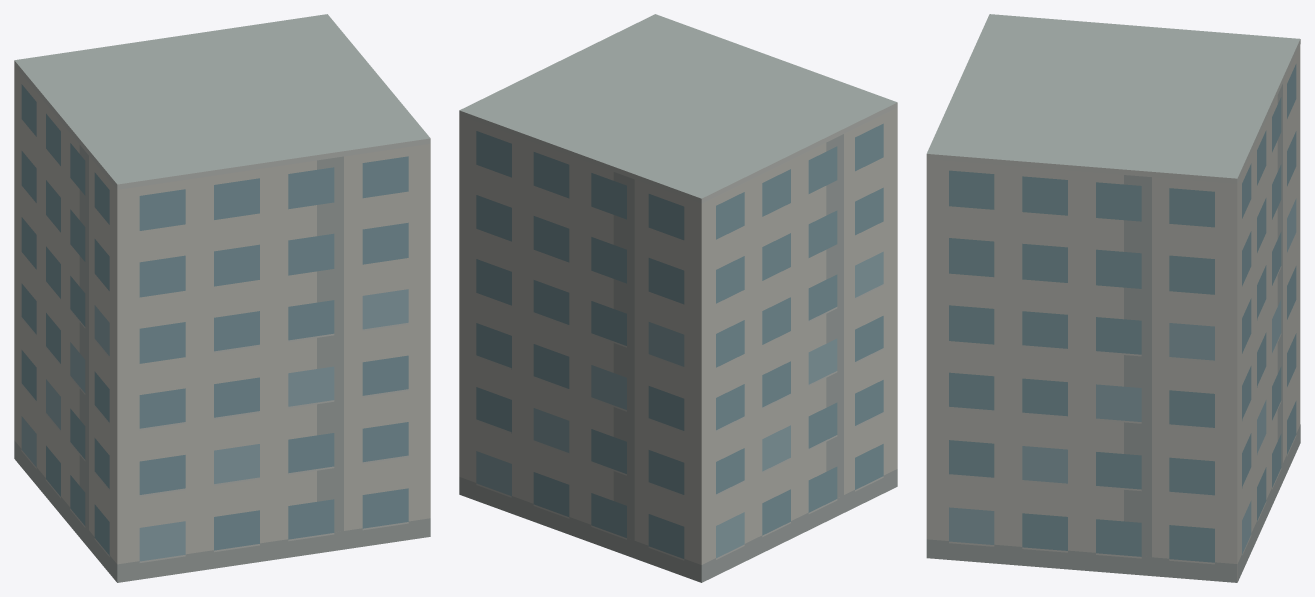
Rendered from survey-upis-32707733.glb.
3 views of the same model, side by side, from view 1: azimuth 30°, elevation 25°; view 2: azimuth 150°, elevation 25°; view 3: azimuth 270°, elevation 25° (orthographic). The views are drawn at different scales.
Parts seen in each view (by area): view 1: survey-upis-32707733.tmp; view 2: survey-upis-32707733.tmp; view 3: survey-upis-32707733.tmp.
Boxes of the visible parts, left/top/right/bottom form: survey-upis-32707733.tmp: left=14, top=14, right=430, bottom=582; survey-upis-32707733.tmp: left=459, top=14, right=897, bottom=582; survey-upis-32707733.tmp: left=926, top=14, right=1300, bottom=582.
Size of the model in its own units: 15.99 by 18.3 by 15.35.
